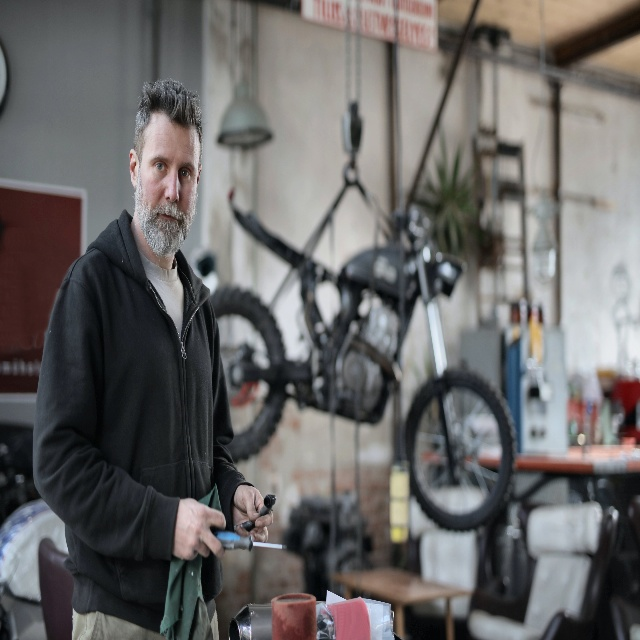Sin_guantes: (171, 498, 227, 561), (232, 483, 274, 543)
